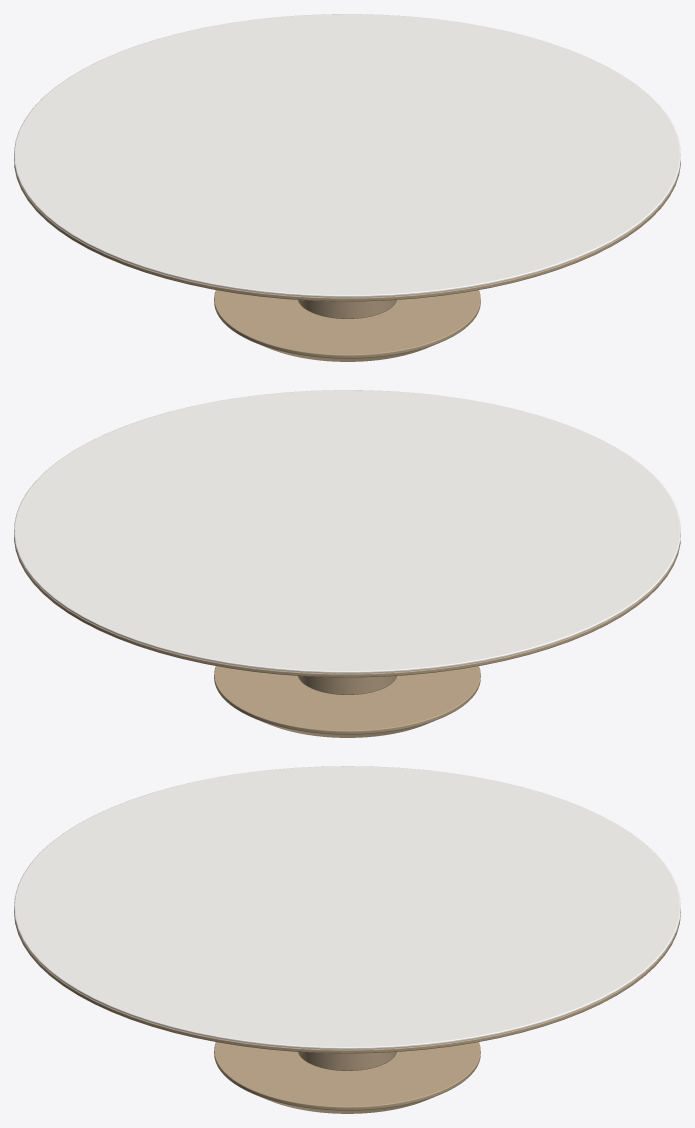
Rendered from orbit_d100h26_hoje.glb.
The picture shows the model from 3 angles, top to bottom: view 1: azimuth 30°, elevation 25°; view 2: azimuth 150°, elevation 25°; view 3: azimuth 270°, elevation 25°; orthographic projection.
Parts seen in each view (by area): view 1: Top Orbit Coffee Table 027, Base Orbit Coffee Table 027, Undertop Orbit Coffee Table 027, Base Element Orbit Coffee Table 030; view 2: Top Orbit Coffee Table 027, Base Orbit Coffee Table 027, Undertop Orbit Coffee Table 027, Base Element Orbit Coffee Table 030; view 3: Top Orbit Coffee Table 027, Base Orbit Coffee Table 027, Undertop Orbit Coffee Table 027, Base Element Orbit Coffee Table 030.
Boxes of the visible parts, <box> form: Top Orbit Coffee Table 027: <box>14,14,680,297</box>; Base Orbit Coffee Table 027: <box>214,290,480,361</box>; Undertop Orbit Coffee Table 027: <box>14,158,680,301</box>; Base Element Orbit Coffee Table 030: <box>298,300,396,318</box>; Top Orbit Coffee Table 027: <box>14,390,680,673</box>; Base Orbit Coffee Table 027: <box>214,666,480,737</box>; Undertop Orbit Coffee Table 027: <box>14,534,680,677</box>; Base Element Orbit Coffee Table 030: <box>298,676,396,694</box>; Top Orbit Coffee Table 027: <box>14,766,680,1049</box>; Base Orbit Coffee Table 027: <box>214,1042,480,1113</box>; Undertop Orbit Coffee Table 027: <box>14,910,680,1053</box>; Base Element Orbit Coffee Table 030: <box>298,1052,396,1070</box>.
Bounding box in the file's own units: 1 × 0.264 × 1.
